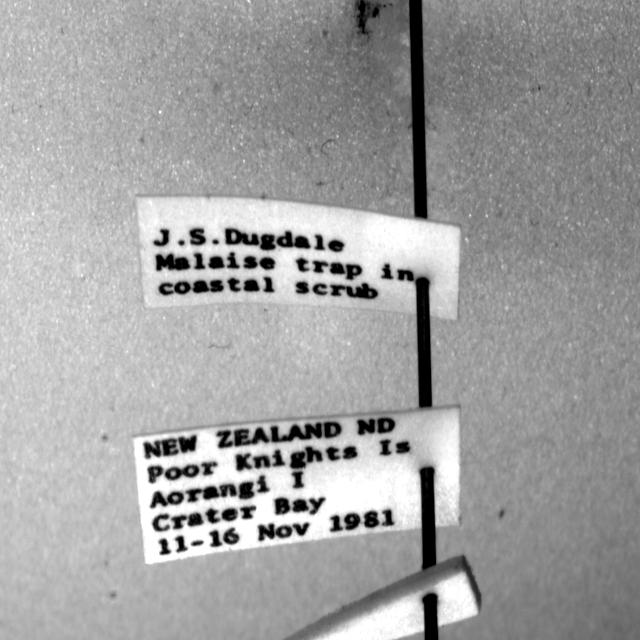typed_label: (134, 407, 460, 564), (138, 197, 460, 319)
